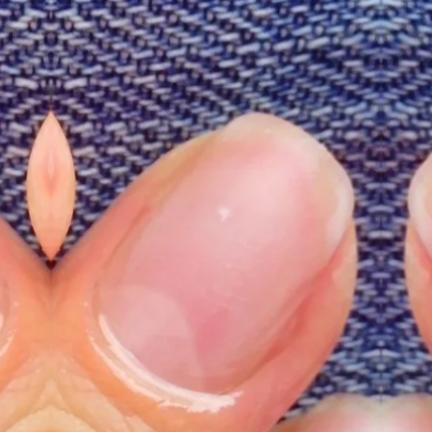Nail: (92, 113, 354, 399), (408, 154, 432, 265), (0, 278, 8, 337)
